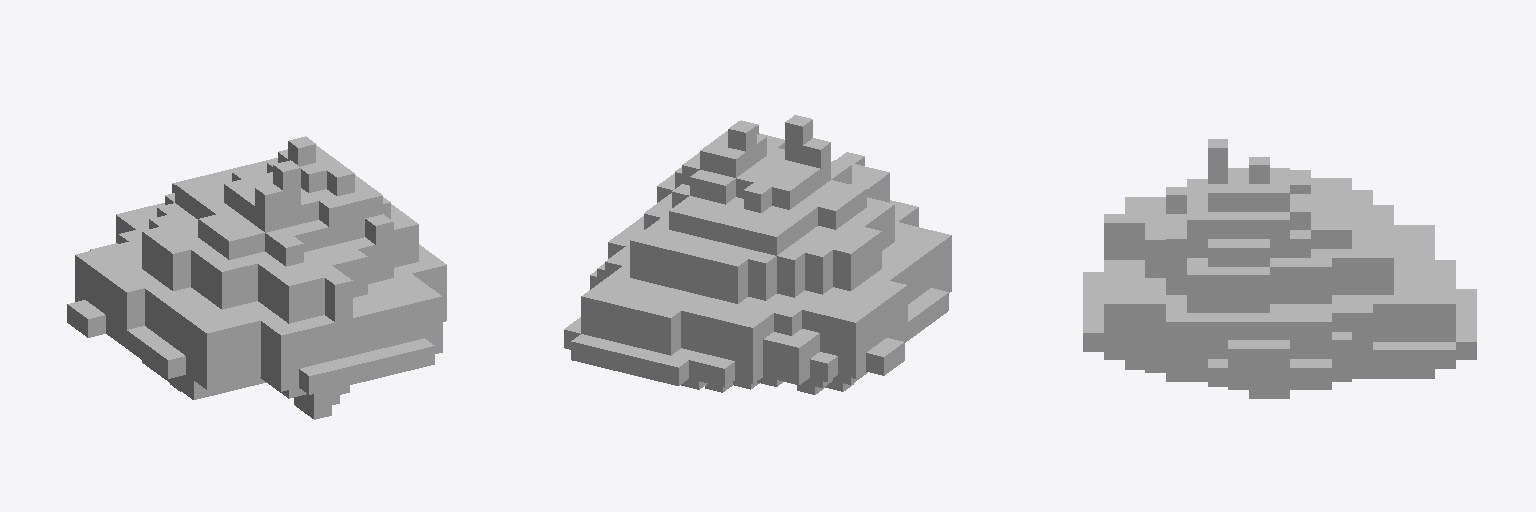
The model's file is stone1.obj.
3 views of the same model, side by side, from view 1: azimuth 30°, elevation 25°; view 2: azimuth 150°, elevation 25°; view 3: azimuth 270°, elevation 25° (orthographic).
Size of the model in its own units: 17 by 12 by 19.